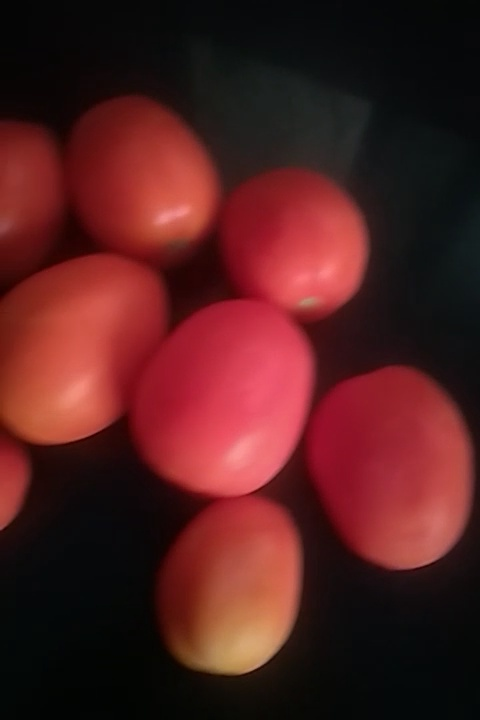tomato: (132, 303, 319, 496), (314, 377, 476, 590), (1, 247, 155, 452), (149, 493, 304, 696), (61, 94, 220, 280), (229, 158, 375, 349), (1, 123, 91, 269)
